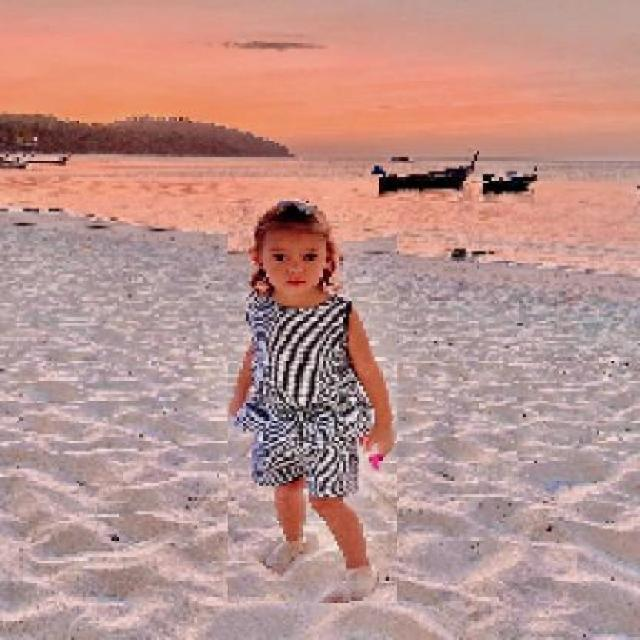child: (226, 198, 397, 604)
